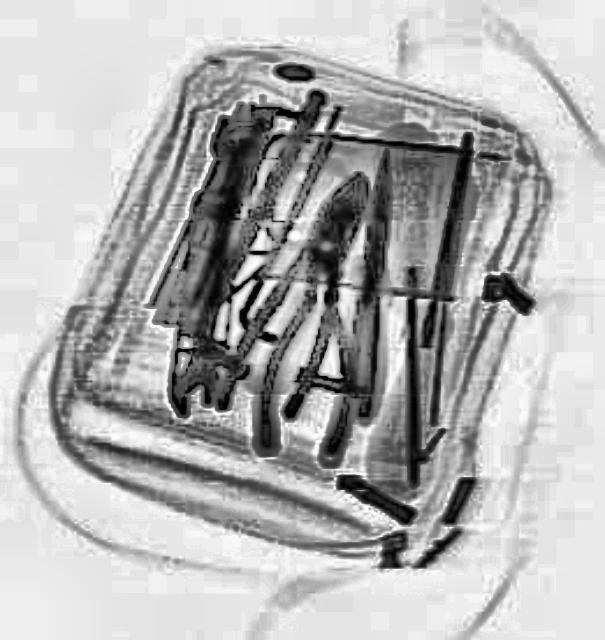Pliers: (204, 153, 400, 437), (249, 214, 378, 456)
Wrench: (160, 236, 240, 418), (202, 110, 262, 196)
